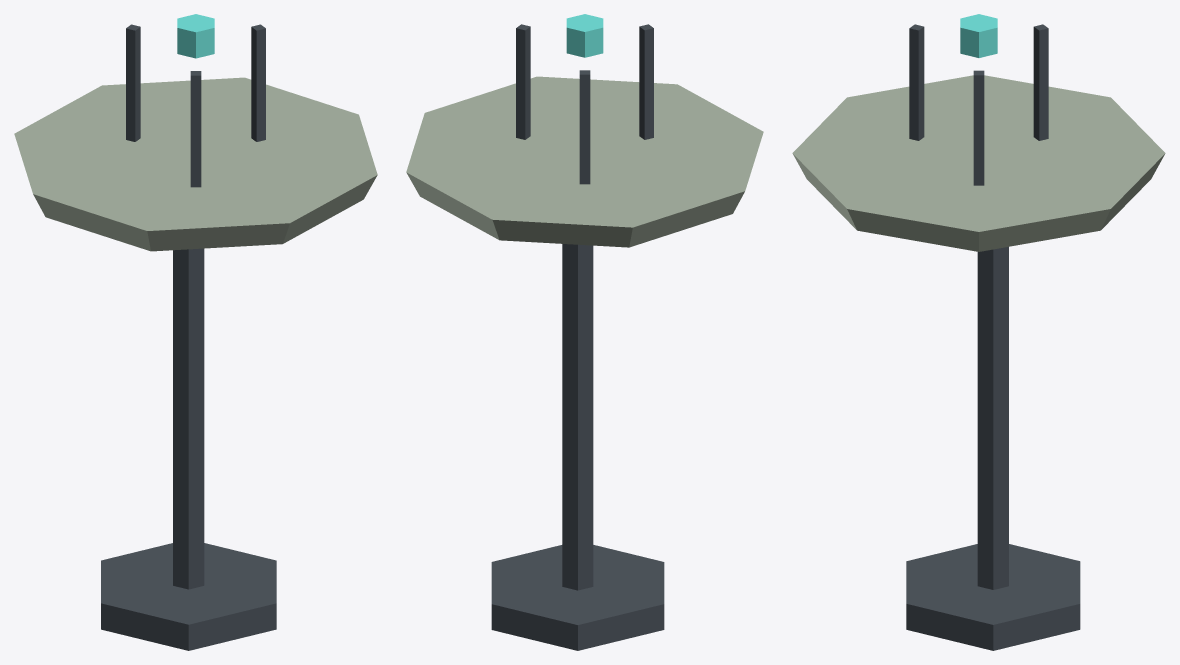
Rendered from SH_CommsArray_01.glb.
3 views of the same model, side by side, from view 1: azimuth 30°, elevation 25°; view 2: azimuth 150°, elevation 25°; view 3: azimuth 270°, elevation 25° (orthographic).
Visible parts, largest first — view 1: SH_CommsArray_01; view 2: SH_CommsArray_01; view 3: SH_CommsArray_01.
Boxes of the visible parts, <box> form: SH_CommsArray_01: <box>14,14,377,650</box>; SH_CommsArray_01: <box>406,14,763,650</box>; SH_CommsArray_01: <box>792,14,1165,650</box>.
Bounding box in the file's own units: 0.52 × 0.9 × 0.52.
1 material, 1 textured.
